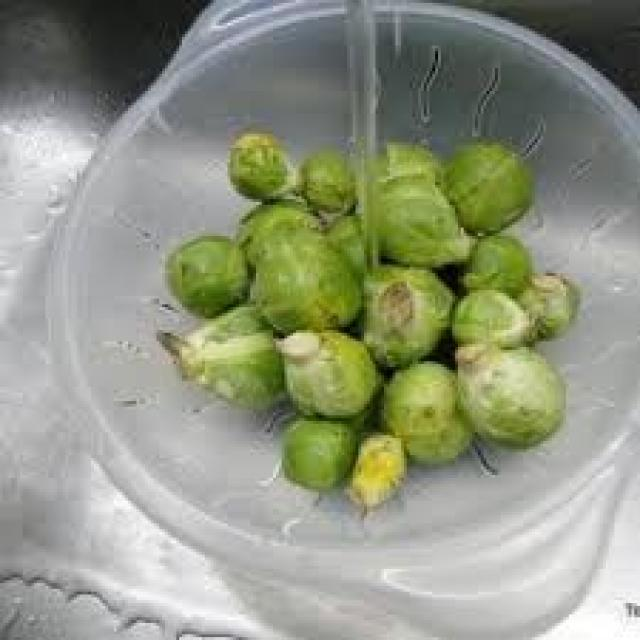organic waste: (153, 296, 284, 404), (248, 219, 356, 330), (452, 338, 563, 444), (376, 352, 472, 463), (271, 327, 378, 418), (361, 262, 447, 367), (432, 137, 529, 230), (370, 174, 469, 262), (159, 230, 245, 308), (282, 410, 356, 489), (444, 287, 532, 350), (236, 193, 307, 264), (344, 426, 404, 501), (515, 270, 580, 339), (225, 131, 296, 193), (452, 236, 529, 287), (364, 139, 438, 185), (298, 148, 352, 208), (324, 211, 370, 270)
